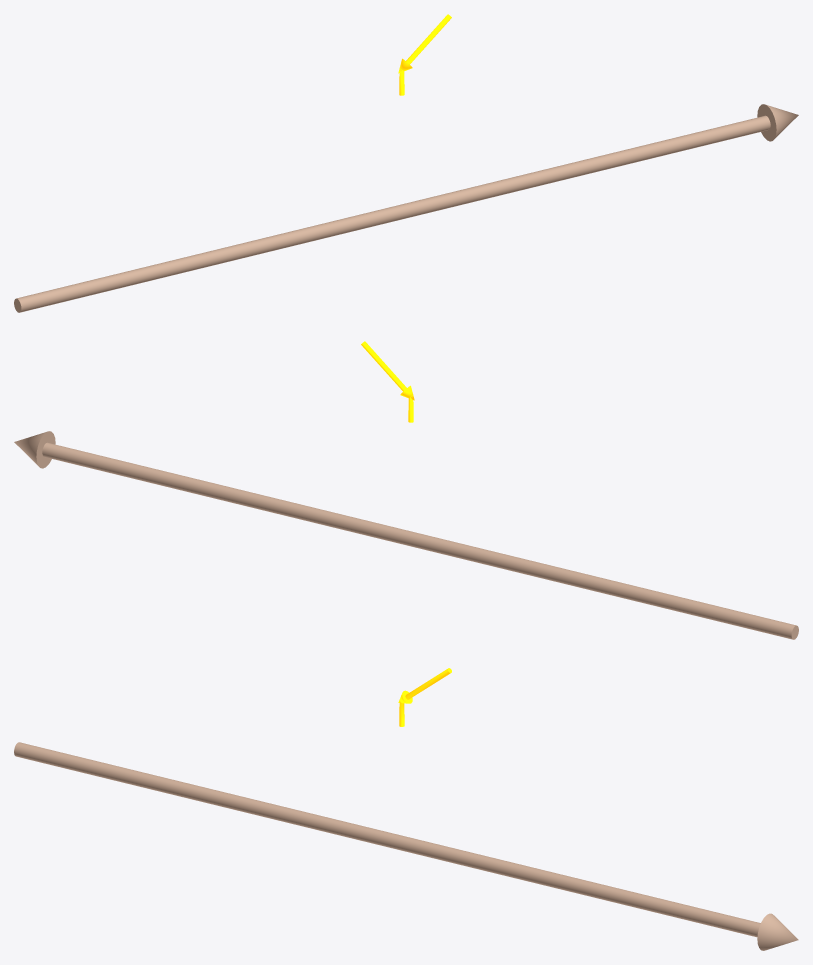
The model's file is alumina_dust_collection_system_flow.glb.
The picture shows the model from 3 angles, top to bottom: view 1: azimuth 30°, elevation 25°; view 2: azimuth 150°, elevation 25°; view 3: azimuth 330°, elevation 25°; orthographic projection.
Visible parts, largest first — view 1: gas, hv_power; view 2: gas, hv_power; view 3: gas, hv_power.
Part boxes in pixels (x1,y1,x2,y2): gas: (14,104,798,312); hv_power: (398,14,451,95); gas: (14,431,798,639); hv_power: (361,341,414,422); gas: (14,742,798,950); hv_power: (398,668,451,726).
Size of the model in its own units: 4.88 by 1.22 by 0.208.
